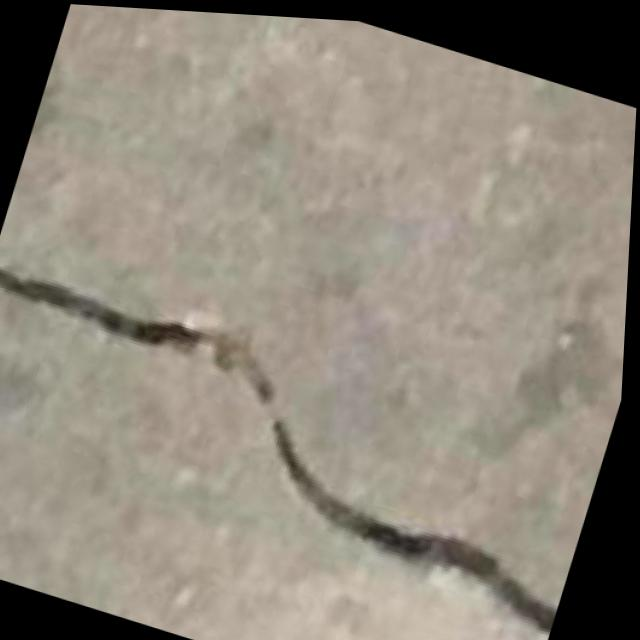Crack: (0, 253, 618, 622)
